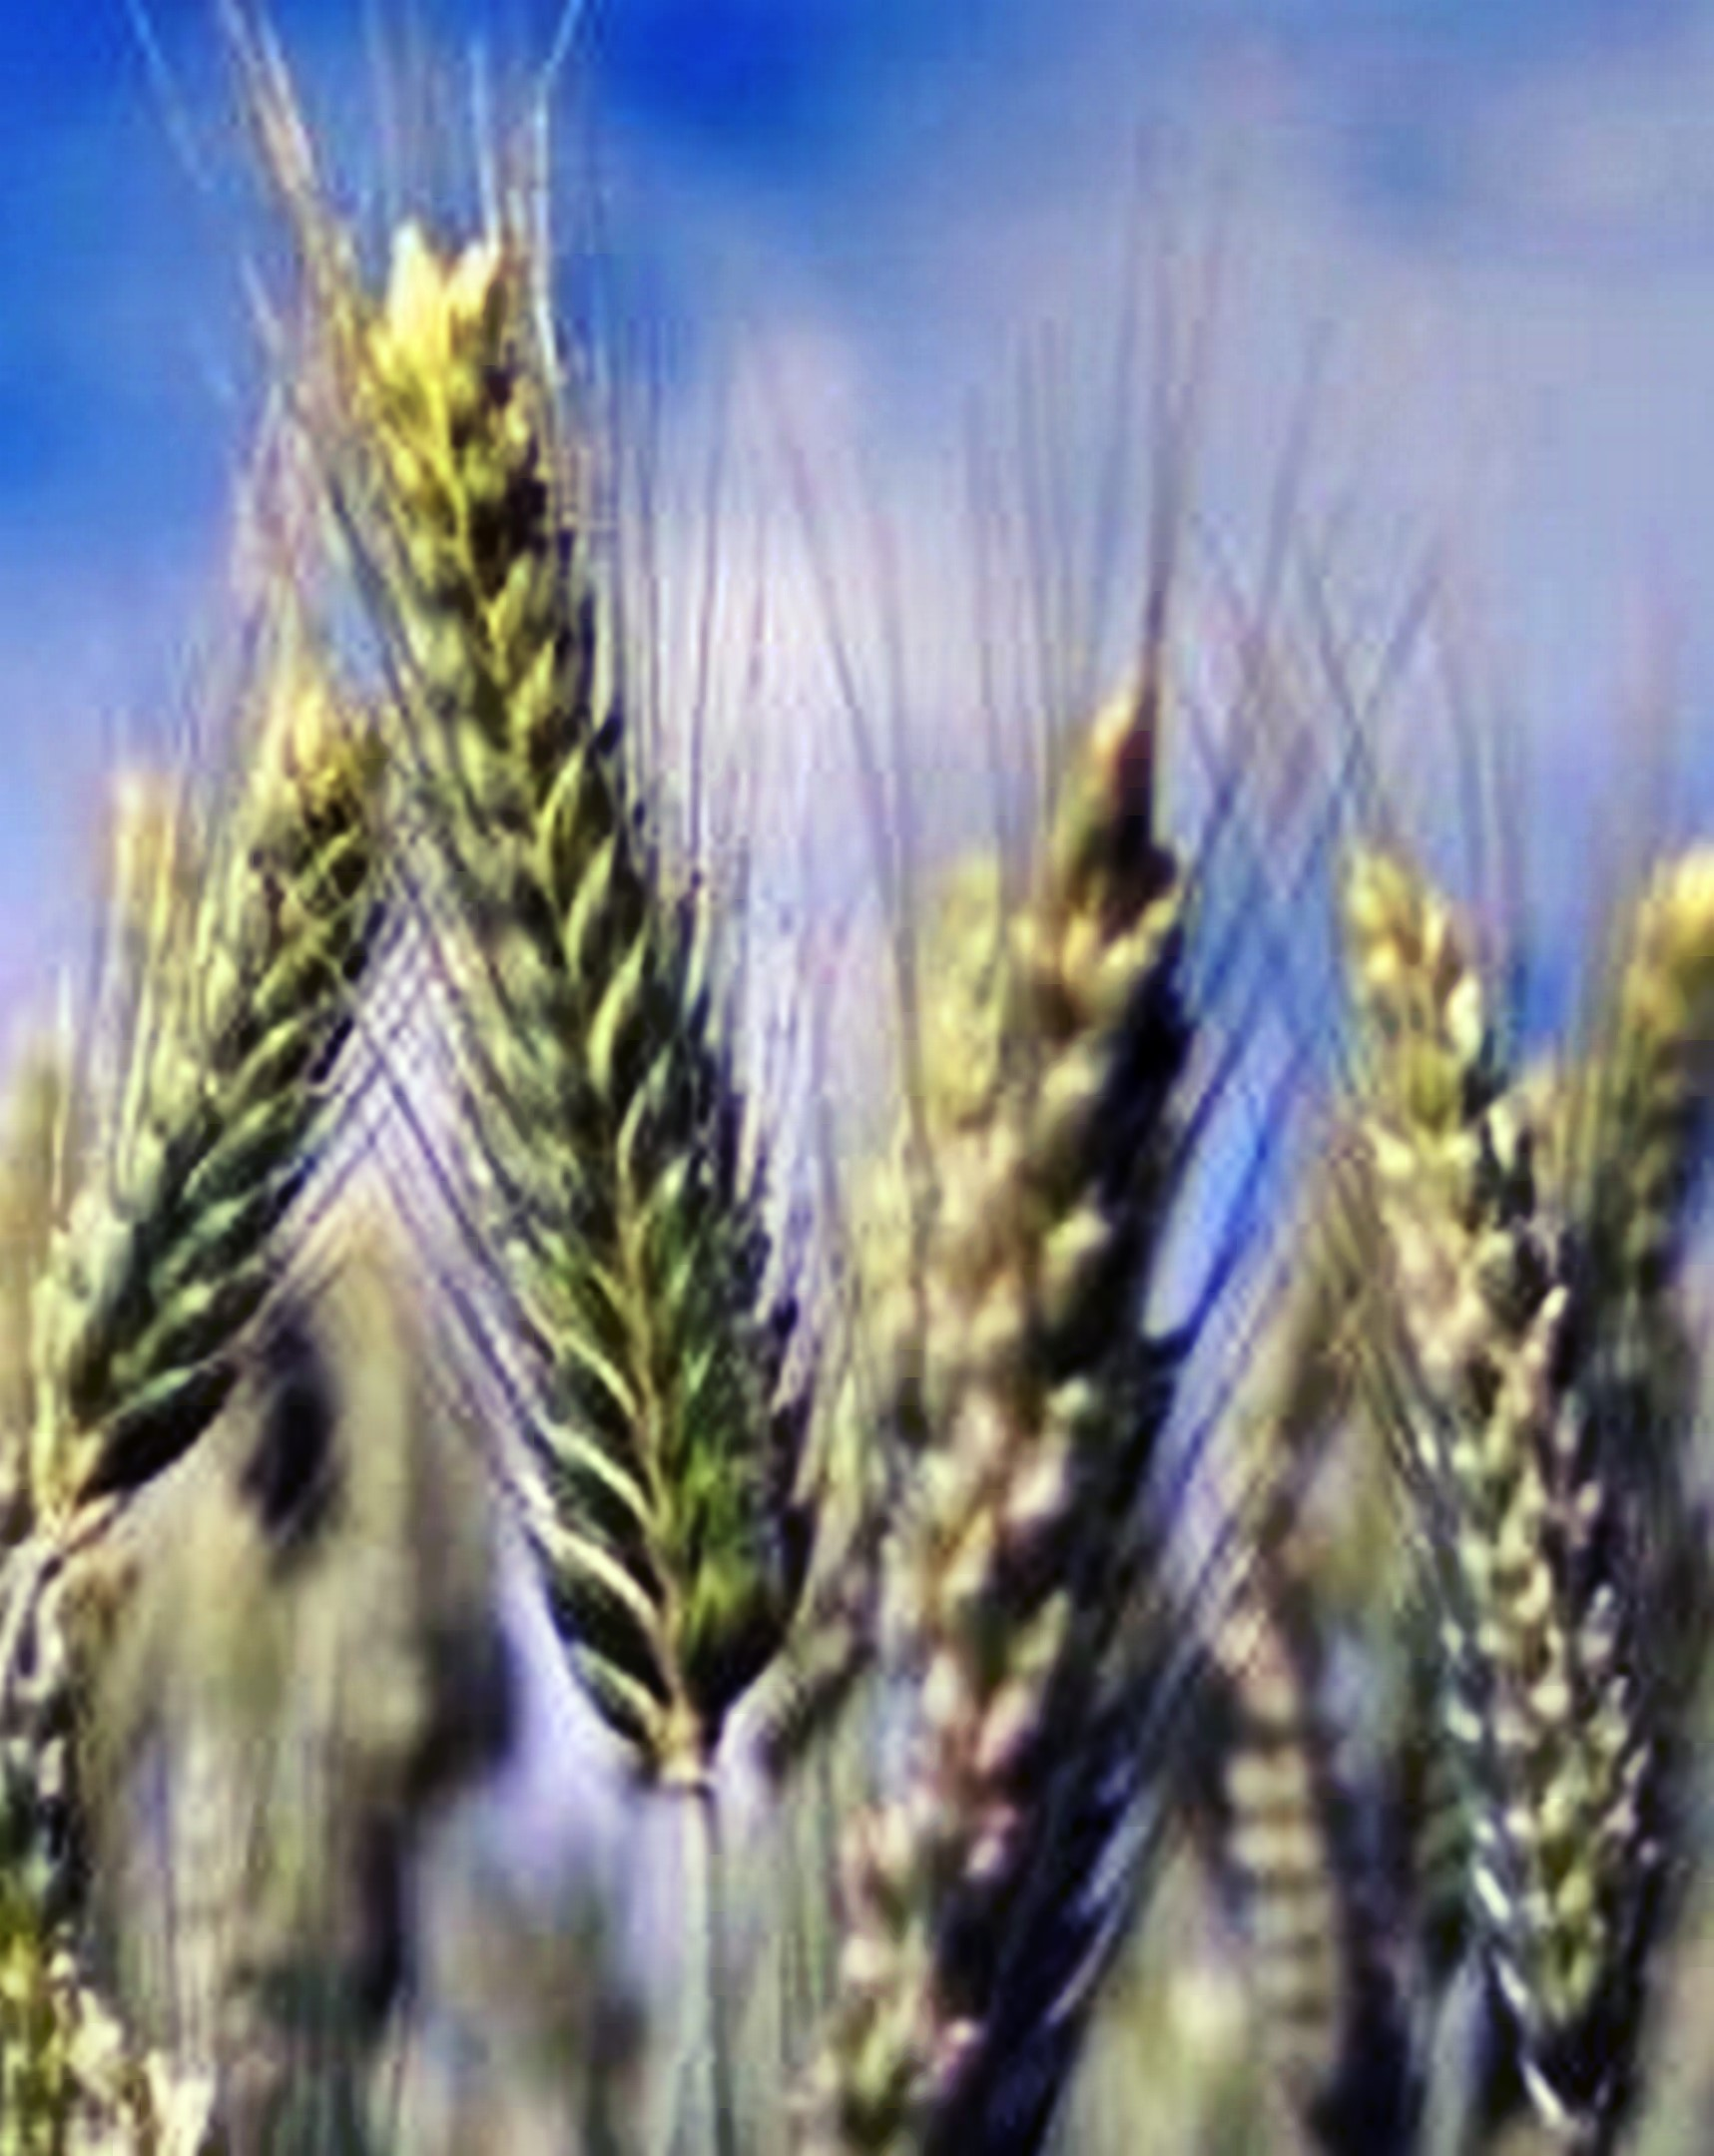Healthy Wheat: (329, 187, 860, 1743)
